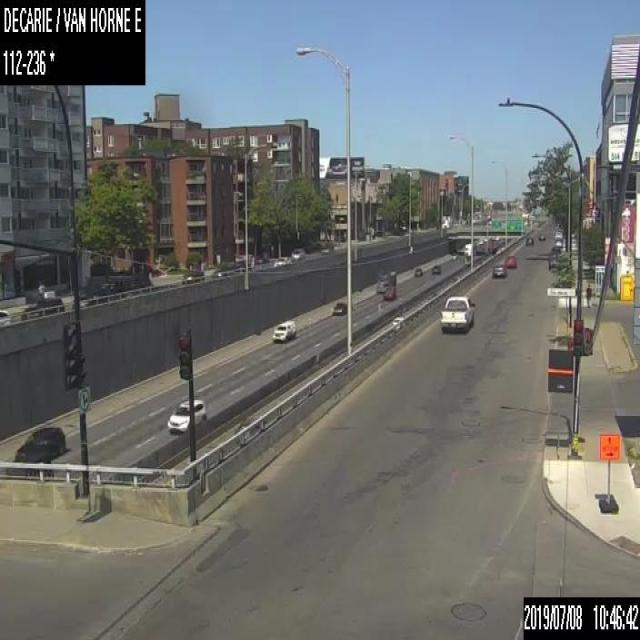construction: (597, 432, 618, 511)
vehicle: (13, 422, 66, 462), (440, 292, 476, 332), (24, 294, 64, 318), (166, 397, 188, 432), (271, 316, 296, 341), (376, 265, 396, 293), (193, 397, 206, 424), (181, 268, 204, 283), (548, 248, 560, 268), (0, 307, 14, 324), (492, 263, 507, 277), (333, 300, 346, 315), (383, 284, 396, 298), (504, 254, 516, 268), (275, 256, 291, 265), (291, 247, 304, 258), (552, 236, 562, 247), (524, 235, 534, 244), (433, 264, 441, 273), (554, 230, 562, 239), (414, 268, 422, 276), (538, 232, 544, 240)
